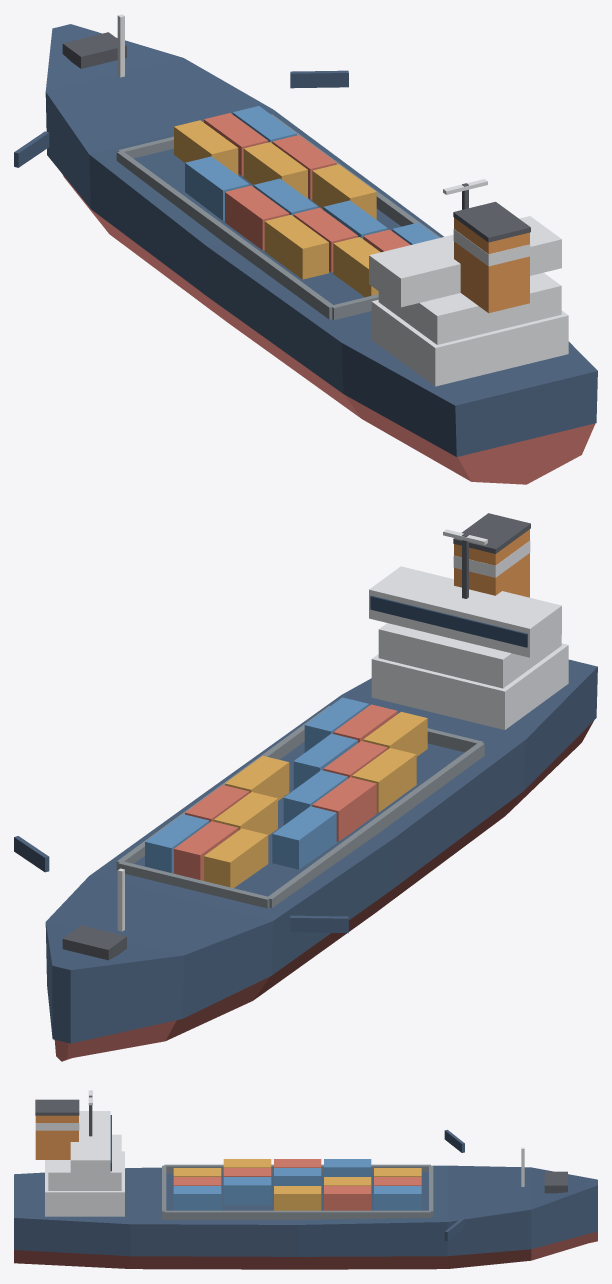
Rendered from harbor_cargo_ship.glb.
3 views of the same model, one above another, from view 1: azimuth 30°, elevation 25°; view 2: azimuth 150°, elevation 25°; view 3: azimuth 270°, elevation 25° (orthographic). The views are drawn at different scales.
Visible parts, largest first — view 1: Ship_Upper_Hull, Ship_Lower_Hull, Ship_Bridge_Tier1, Ship_Wheelhouse, Ship_Bridge_Tier2, Ship_Funnel, Ship_Coaming_Port, Ship_Crate_T2_0_1, Ship_Crate_T2_0_2, Ship_Crate_T2_0_3, Ship_Crate_T2_2_3, Ship_Crate_T2_3_2 (+18 smaller); view 2: Ship_Upper_Hull, Ship_Bridge_Tier1, Ship_Wheelhouse, Ship_Lower_Hull, Ship_Bridge_Tier2, Ship_Coaming_Port, Ship_Crate_T2_0_3, Ship_Crate_T2_1_4, Ship_Funnel, Ship_Bridge_Windows, Ship_Crate_T2_0_2, Ship_Crate_T2_0_1 (+18 smaller); view 3: Ship_Upper_Hull, Ship_Lower_Hull, Ship_Coaming_Starboard, Ship_Wheelhouse, Ship_Bridge_Tier1, Ship_Bridge_Tier2, Ship_Funnel, Ship_Crate_T2_2_1, Ship_Crate_T2_3_0, Ship_Crate_T2_3_2, Ship_Crate_T2_3_3, Ship_Crate_T2_3_4 (+16 smaller).
Boxes of the visible parts, <box> form: Ship_Upper_Hull: <box>45,24,597,456</box>; Ship_Lower_Hull: <box>62,174,595,484</box>; Ship_Bridge_Tier1: <box>371,299,568,386</box>; Ship_Wheelhouse: <box>369,216,561,307</box>; Ship_Bridge_Tier2: <box>378,272,561,344</box>; Ship_Funnel: <box>454,217,529,313</box>; Ship_Coaming_Port: <box>116,151,332,319</box>; Ship_Crate_T2_0_1: <box>264,215,328,279</box>; Ship_Crate_T2_0_2: <box>225,185,289,250</box>; Ship_Crate_T2_0_3: <box>185,156,249,220</box>; Ship_Crate_T2_2_3: <box>243,142,307,198</box>; Ship_Crate_T2_3_2: <box>312,164,376,219</box>; Ship_Upper_Hull: <box>45,659,597,1043</box>; Ship_Bridge_Tier1: <box>371,643,568,729</box>; Ship_Wheelhouse: <box>369,566,561,657</box>; Ship_Lower_Hull: <box>54,721,593,1061</box>; Ship_Bridge_Tier2: <box>378,623,561,688</box>; Ship_Coaming_Port: <box>266,743,484,907</box>; Ship_Crate_T2_0_3: <box>272,806,336,869</box>; Ship_Crate_T2_1_4: <box>204,828,268,888</box>; Ship_Funnel: <box>454,529,529,597</box>; Ship_Bridge_Windows: <box>370,595,527,647</box>; Ship_Crate_T2_0_2: <box>312,777,376,841</box>; Ship_Crate_T2_0_1: <box>352,748,416,812</box>; Ship_Upper_Hull: <box>14,1165,597,1256</box>; Ship_Lower_Hull: <box>14,1231,597,1269</box>; Ship_Coaming_Starboard: <box>164,1210,430,1219</box>; Ship_Wheelhouse: <box>70,1111,110,1178</box>; Ship_Bridge_Tier1: <box>45,1151,124,1216</box>; Ship_Bridge_Tier2: <box>48,1134,121,1190</box>; Ship_Funnel: <box>35,1115,78,1159</box>; Ship_Crate_T2_2_1: <box>223,1177,271,1204</box>; Ship_Crate_T2_3_0: <box>173,1186,221,1210</box>; Ship_Crate_T2_3_2: <box>274,1186,321,1210</box>; Ship_Crate_T2_3_3: <box>324,1186,371,1210</box>; Ship_Crate_T2_3_4: <box>374,1186,421,1210</box>.
Size of the model in its own units: 29.08 by 21.4 by 70.
